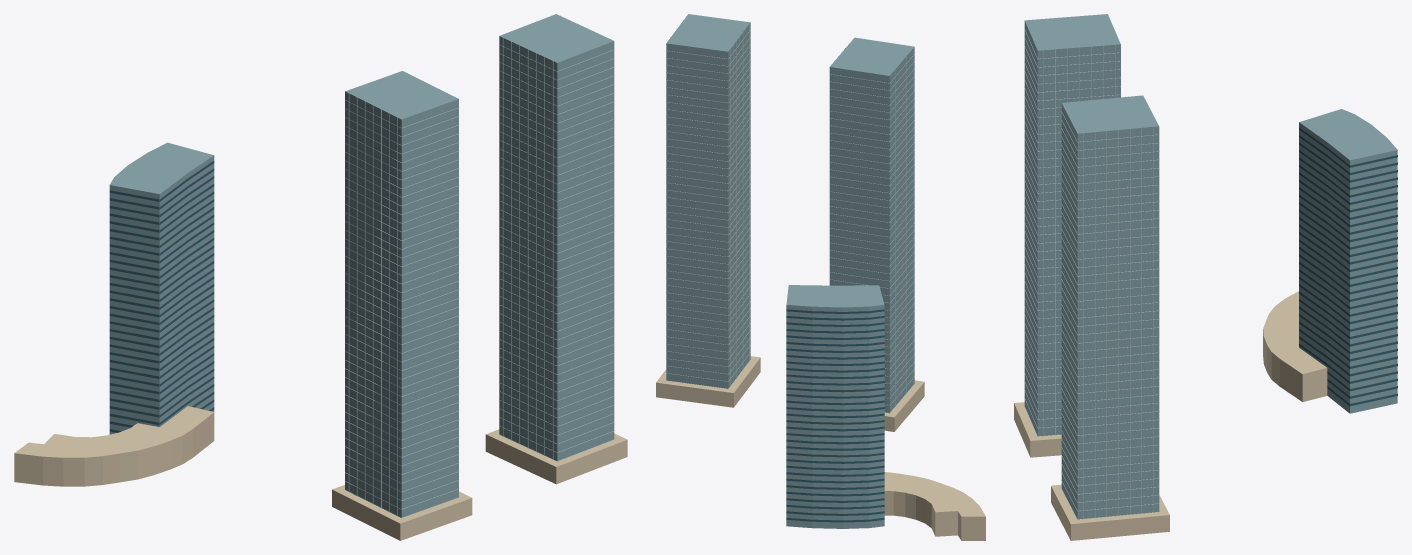
Rendered from city_5_2.glb.
3 renders of one model, left to right at view 1: azimuth 30°, elevation 25°; view 2: azimuth 150°, elevation 25°; view 3: azimuth 270°, elevation 25°, orthographic. The views are drawn at different scales.
Visible parts, largest first — view 1: city_5_2; view 2: city_5_2; view 3: city_5_2.
Part boxes in pixels (x1,y1,x2,y2): city_5_2: (14,14,627,540); city_5_2: (656,14,985,540); city_5_2: (1014,14,1397,540).
Size of the model in its own units: 264 by 216 by 187.
